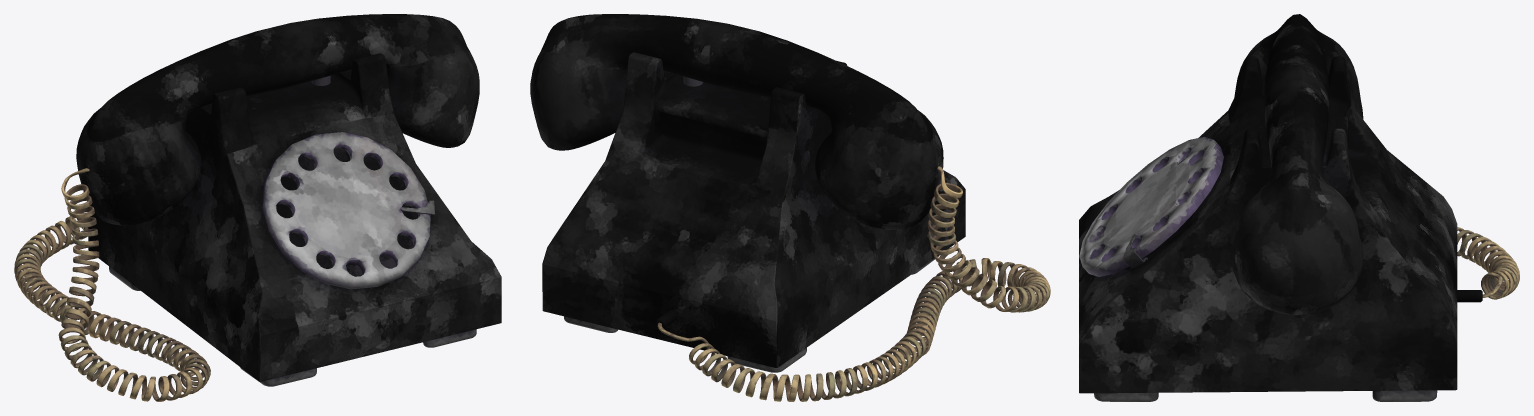
Rendered from asset.glb.
The picture shows the model from 3 angles, left to right: view 1: azimuth 30°, elevation 25°; view 2: azimuth 150°, elevation 25°; view 3: azimuth 270°, elevation 25°; orthographic projection. The views are drawn at different scales.
Parts seen in each view (by area): view 1: Telefono_Low; view 2: Telefono_Low; view 3: Telefono_Low.
Part boxes in pixels (bbox=[...]): Telefono_Low: bbox=[14, 14, 501, 401]; Telefono_Low: bbox=[530, 14, 1050, 401]; Telefono_Low: bbox=[1079, 14, 1519, 401].
Size of the model in its own units: 0.4506 by 0.2586 by 0.3646.
1 material, 1 textured.
